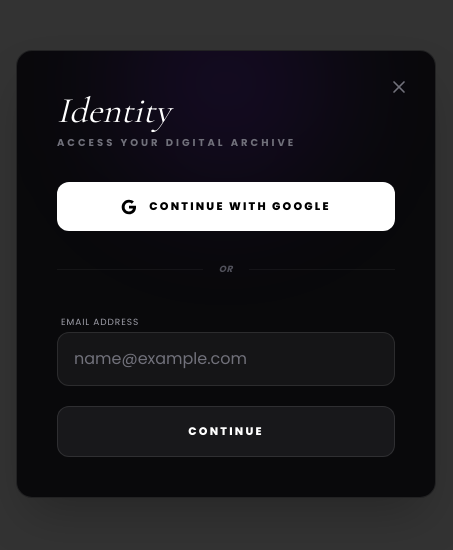
AuthModal › stays on the email step and shows the server error when sending fails
In the field with placeholder "name@example.com": [226, 359] box [57,332,395,386], type "buyer@example.com"
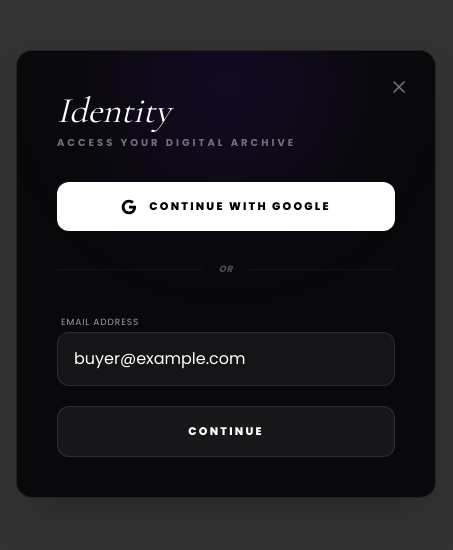
Click the button "Continue": [226, 432] box [57,406,395,457]
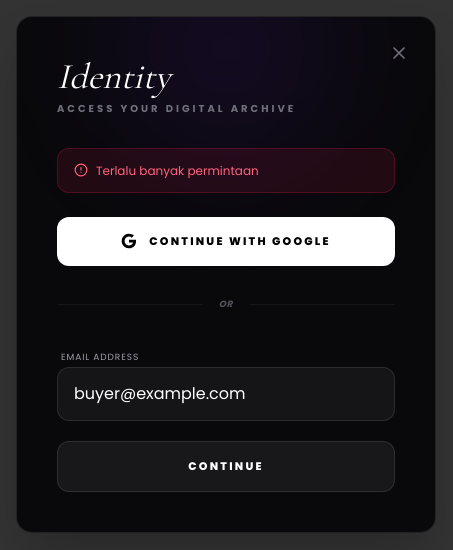
Expected: the heading "Identity" is shown, [57,54,170,98]
Result: the text "Terlalu banyak permintaan" is shown at [96,160,259,180]
